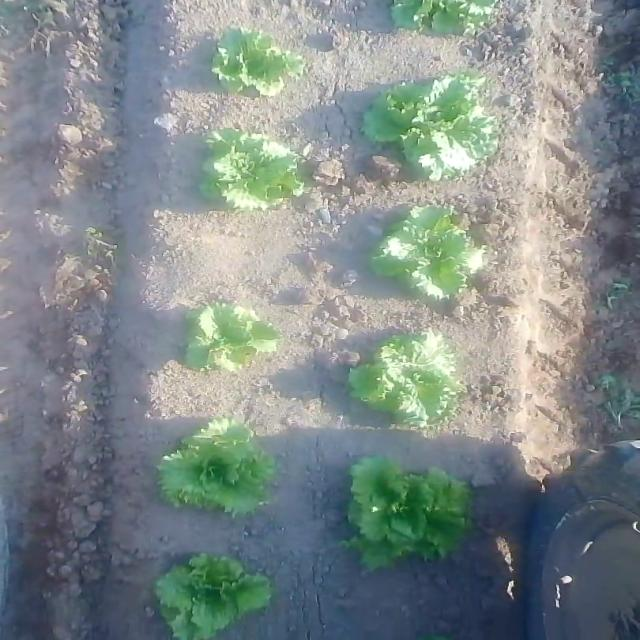Lettuce-Ready-to-Harvest: (363, 70, 499, 185), (346, 455, 470, 573), (154, 416, 276, 517), (152, 551, 271, 640), (348, 332, 458, 428), (371, 206, 476, 302), (200, 129, 304, 212), (181, 304, 279, 373), (212, 27, 304, 99)
